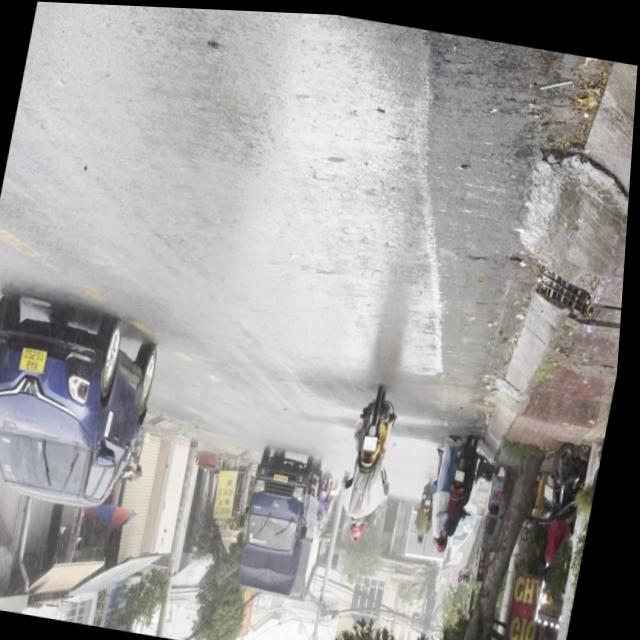helmet: (353, 514, 371, 540)
licenseplate: (338, 381, 410, 543)
nohelmet: (367, 432, 383, 448)
